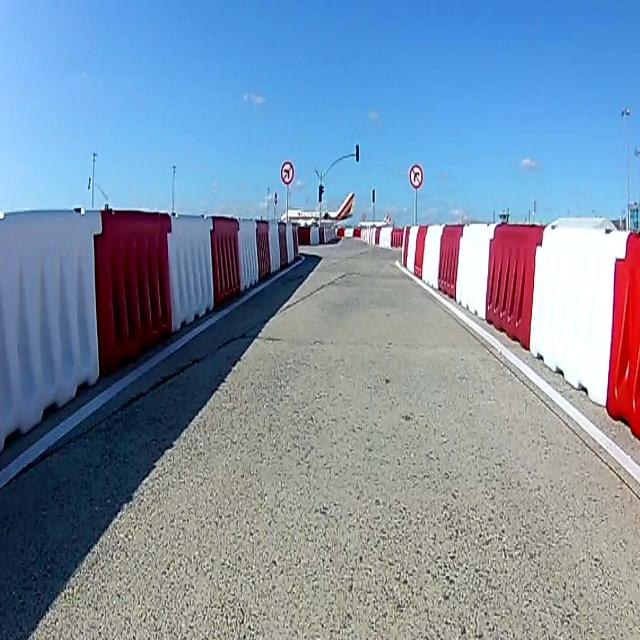sagadonulmez: (410, 166, 424, 190)
soladonulmez: (280, 161, 294, 186)
